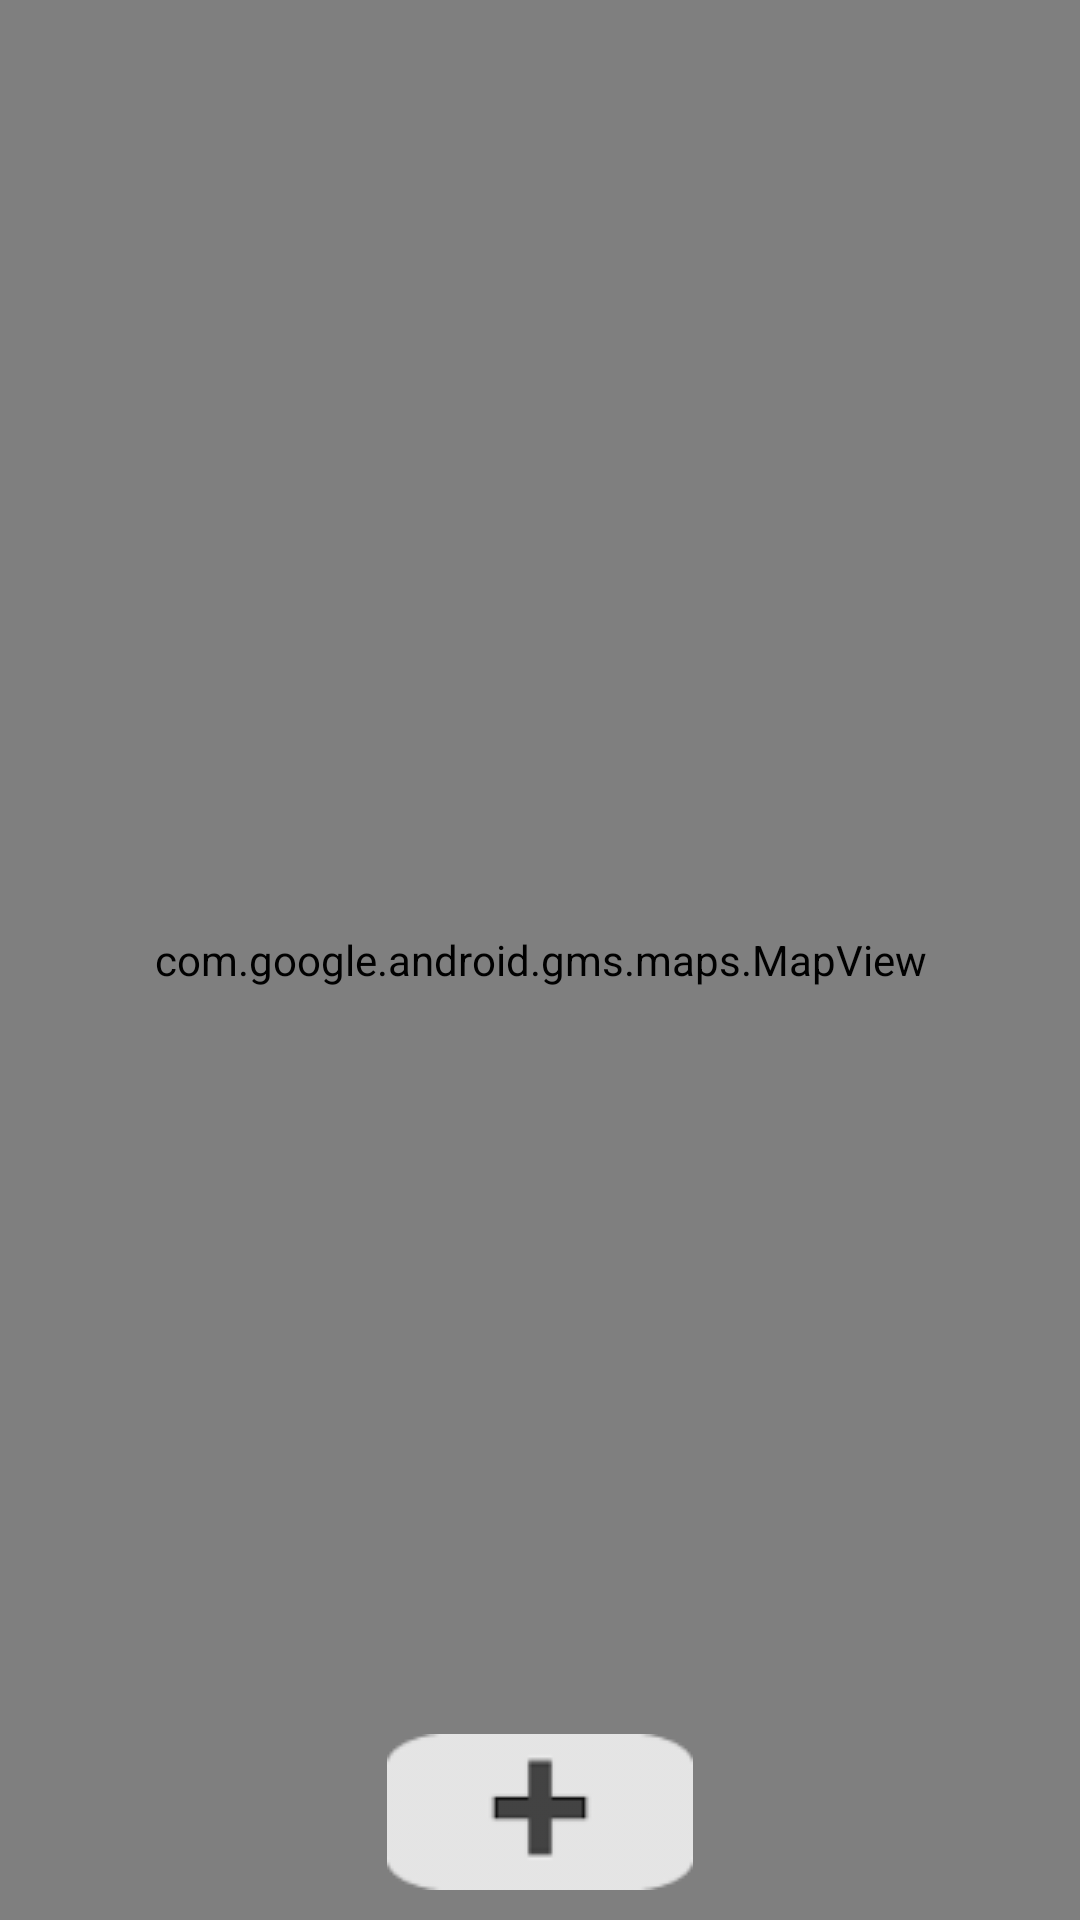

Icon bounding boxes for this 1080*1920 phone screenshot, format {"x1": x1, "y1": y1, "x2": x2, "y2": y2}:
plus: {"x1": 387, "y1": 1734, "x2": 693, "y2": 1890}
